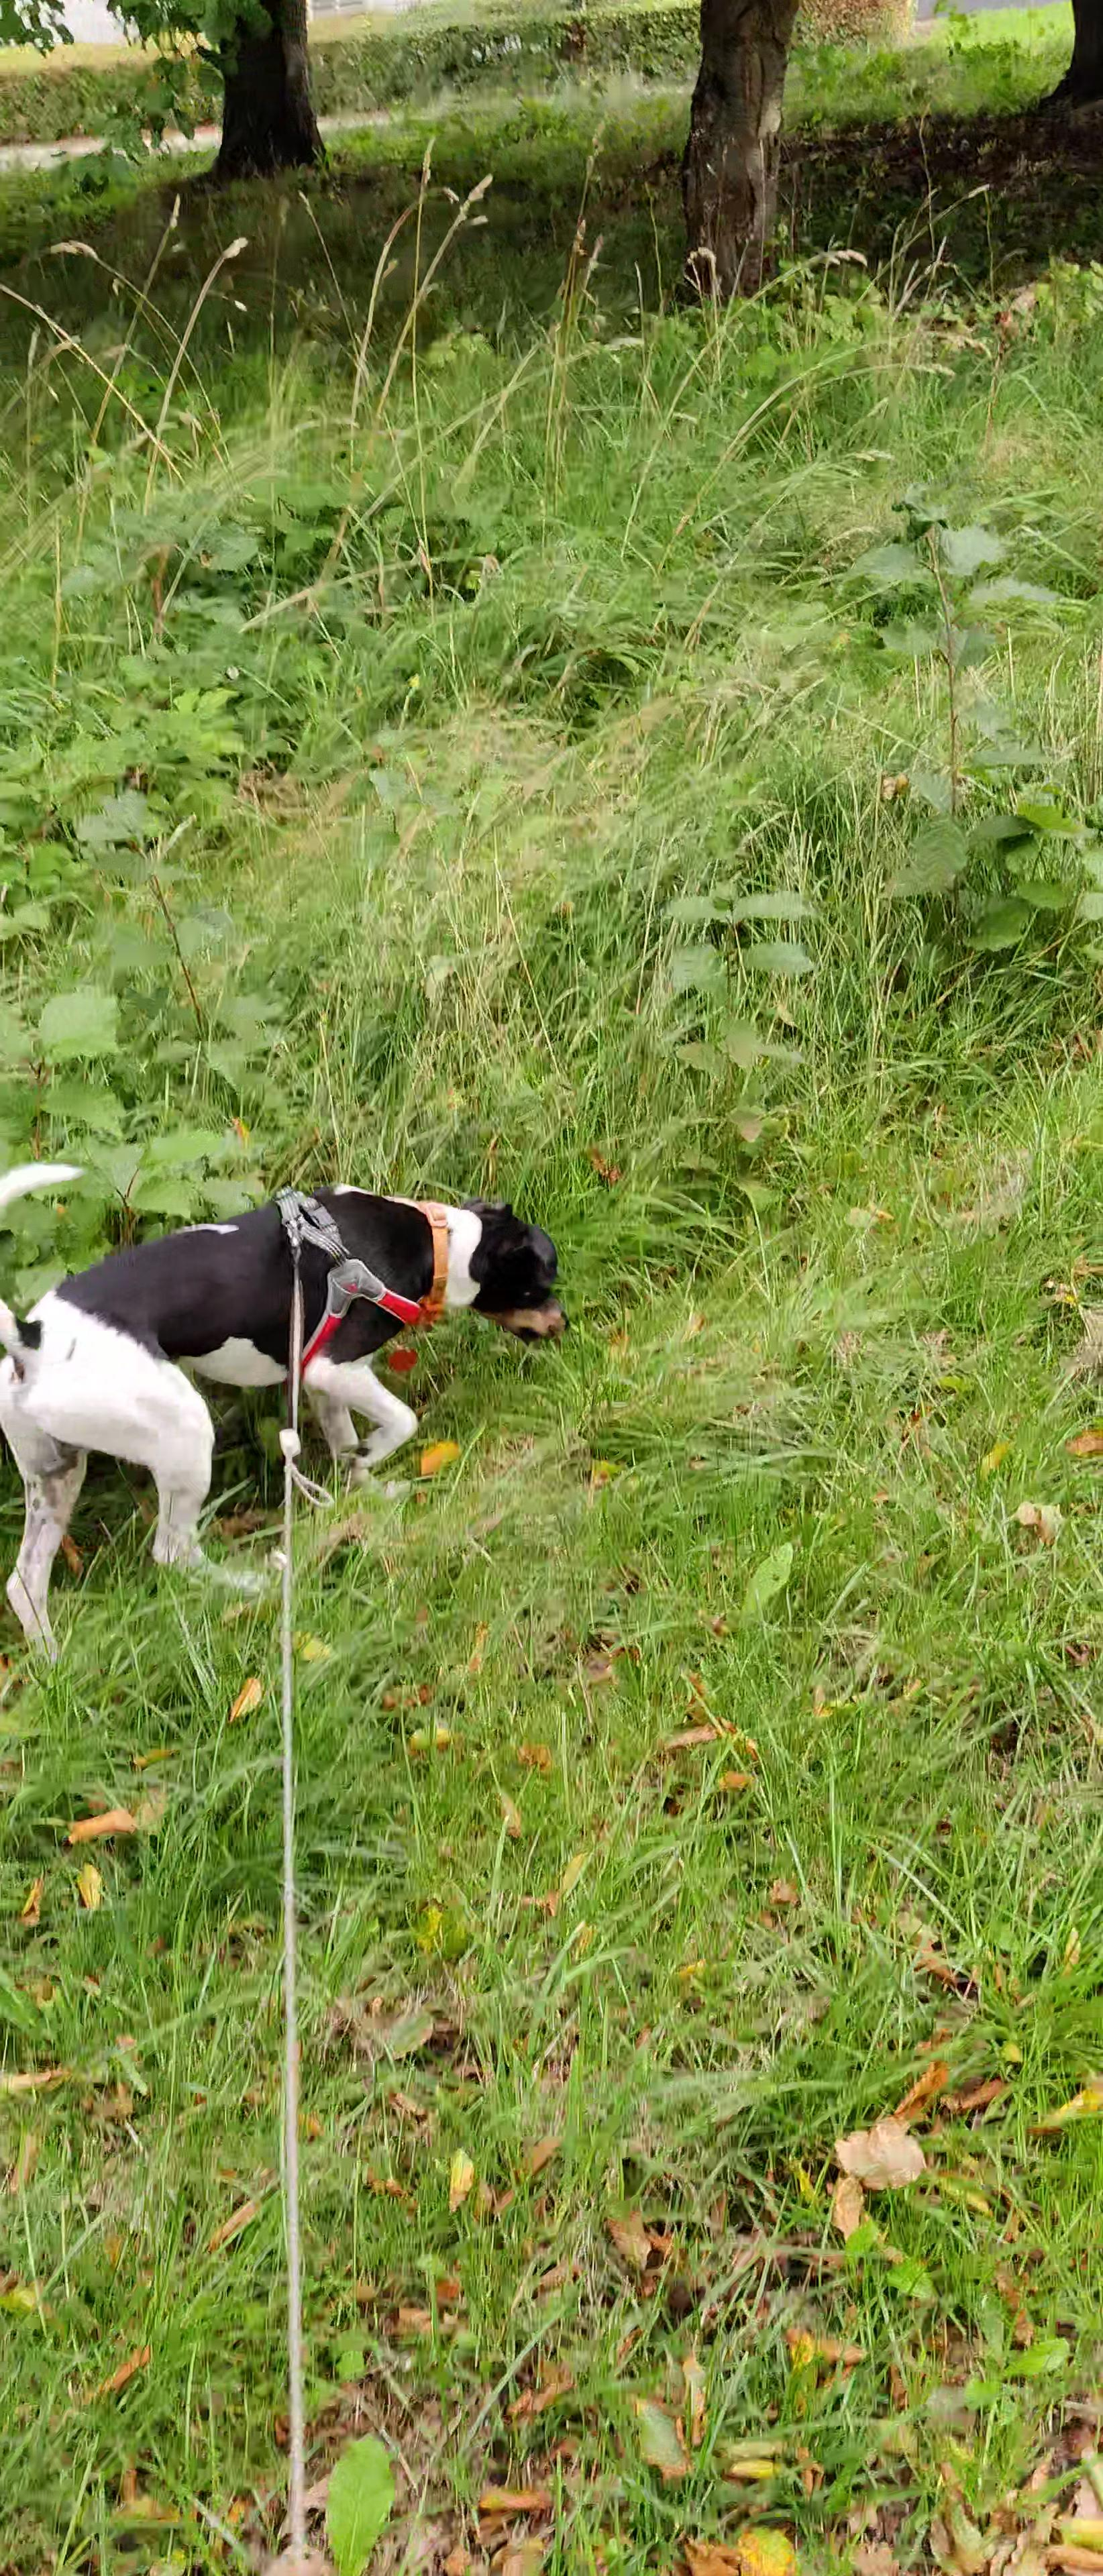Dog: (0, 1107, 616, 1686)
